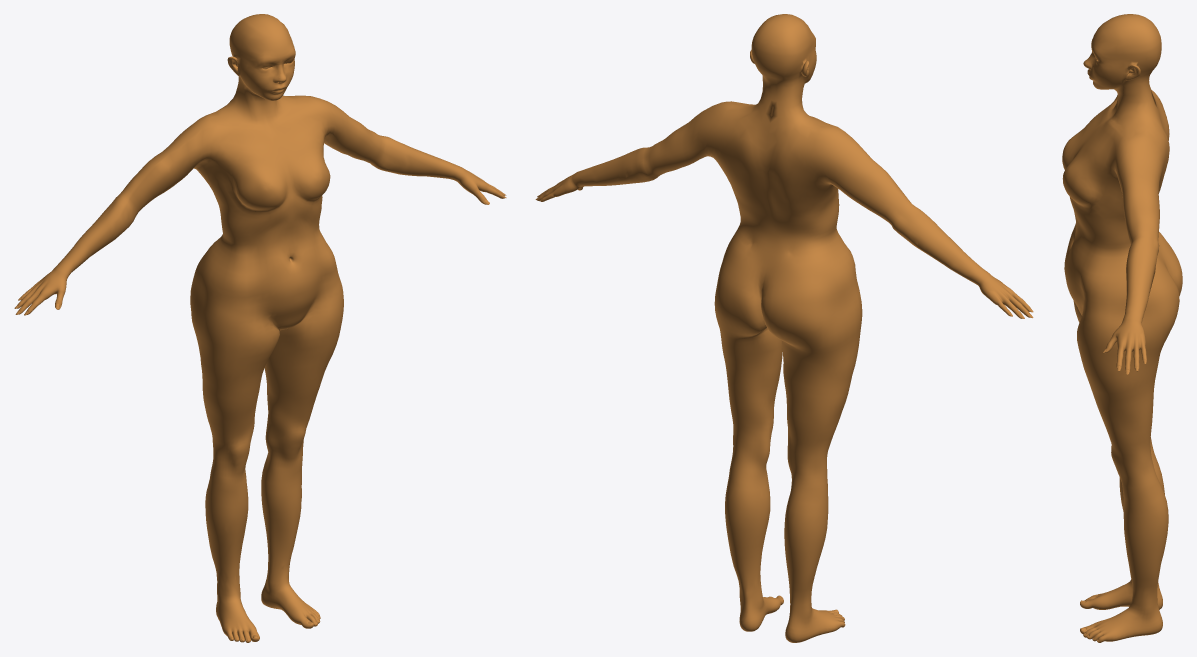
The picture shows the model from 3 angles, left to right: view 1: azimuth 30°, elevation 25°; view 2: azimuth 150°, elevation 25°; view 3: azimuth 270°, elevation 25°; orthographic projection.
Visible parts, largest first — view 1: Body; view 2: Body; view 3: Body.
Boxes of the visible parts, <box> form: Body: <box>17,14,505,642</box>; Body: <box>537,14,1030,642</box>; Body: <box>1062,14,1182,642</box>.
Size of the model in its own units: 1.58 by 1.85 by 0.3332.
